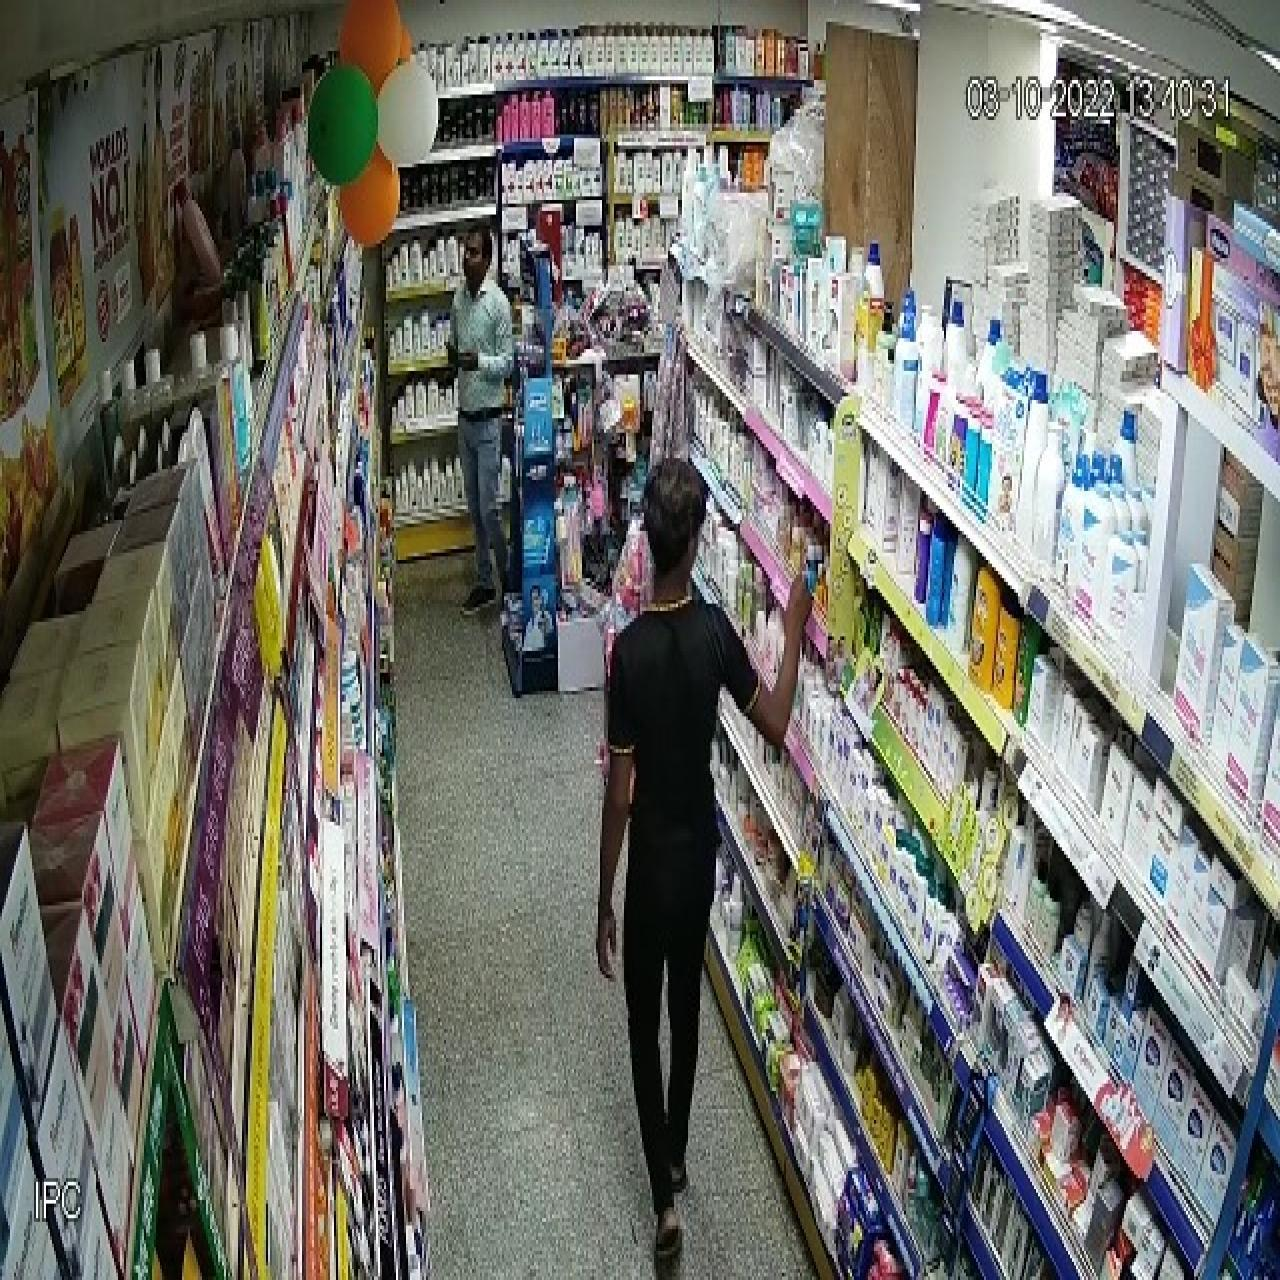normal: (597, 427, 776, 1280)
